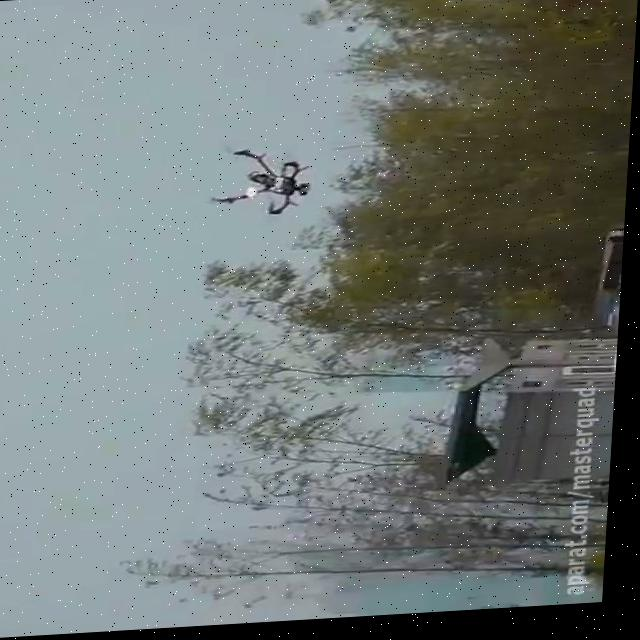drone: (204, 138, 317, 229)
